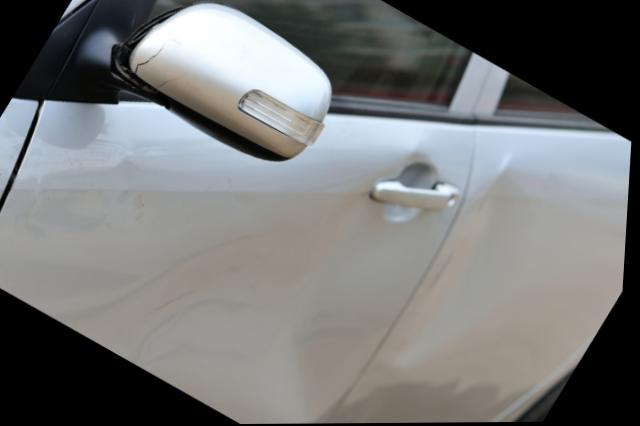dent: (138, 189, 412, 424), (392, 167, 527, 378)
